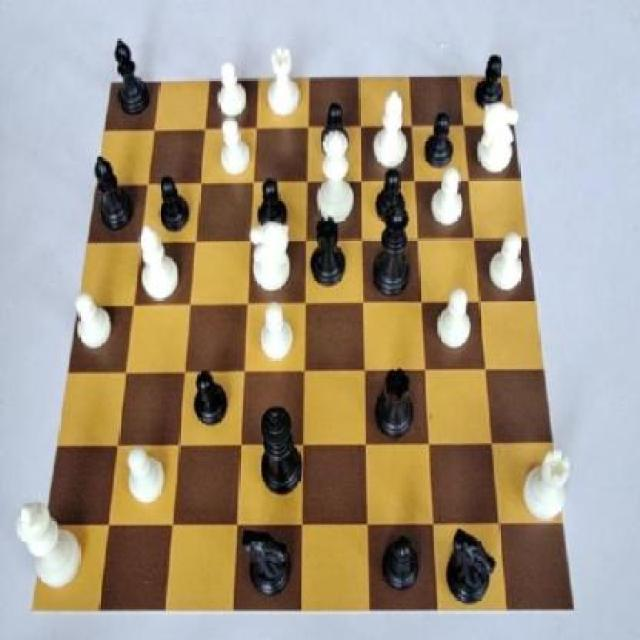bishop: (90, 143, 134, 242), (110, 31, 152, 126)
black-bishop: (254, 401, 308, 504)
black-king: (237, 528, 301, 613), (440, 525, 502, 612)
black-knight: (374, 523, 428, 612), (186, 358, 231, 432), (252, 172, 298, 242), (369, 162, 413, 233), (418, 104, 459, 180), (152, 170, 195, 242), (316, 89, 352, 169), (471, 43, 510, 115)
black-pawn: (370, 206, 416, 307)
black-queen: (371, 365, 418, 447), (308, 216, 350, 294)
black-rook: (134, 220, 184, 304), (365, 85, 410, 177)
white-bishop: (11, 495, 86, 601)
white-king: (248, 214, 300, 298), (475, 101, 520, 184)
white-knight: (482, 225, 530, 306), (72, 285, 115, 363), (121, 436, 167, 508), (255, 295, 300, 367), (434, 283, 475, 357), (429, 163, 470, 237), (212, 111, 255, 180), (211, 59, 250, 123)
white-pawn: (314, 124, 358, 233)
white-queen: (518, 443, 577, 526), (260, 39, 305, 128)
